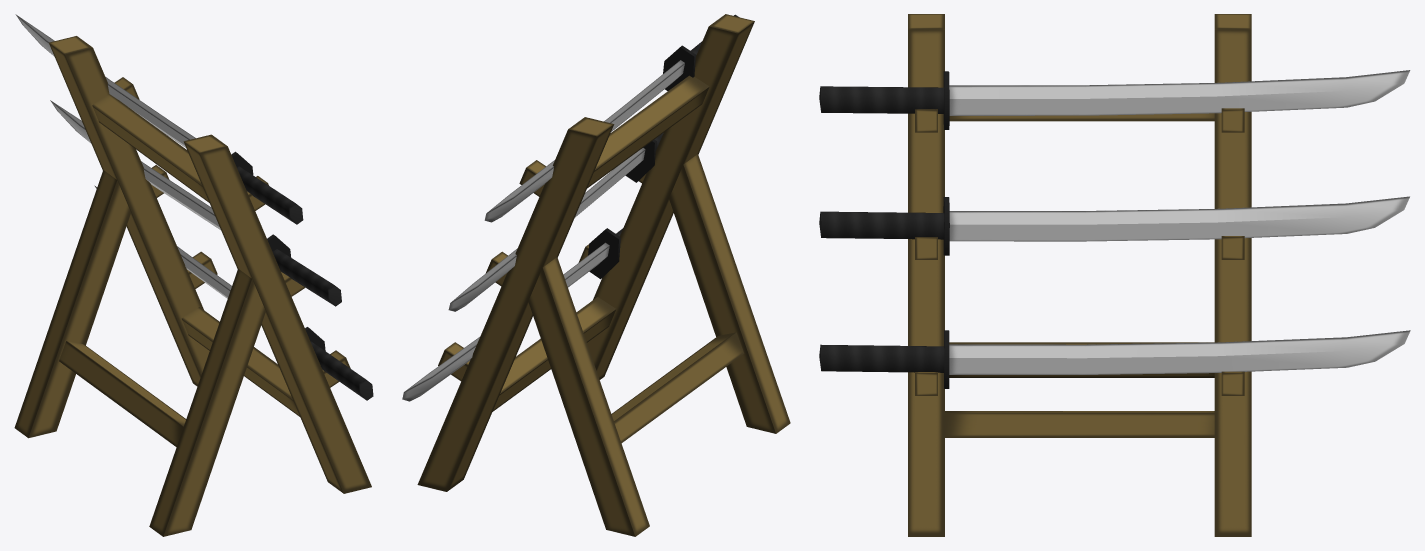
The model's file is katanas.fbx.
3 views of the same model, side by side, from view 1: azimuth 30°, elevation 25°; view 2: azimuth 150°, elevation 25°; view 3: azimuth 270°, elevation 25° (orthographic). The views are drawn at different scales.
Parts seen in each view (by area): view 1: rack, katana_2, katana_1, katana_3; view 2: rack, katana_1, katana_3, katana_2; view 3: rack, katana_3, katana_2, katana_1.
Boxes of the visible parts, <box> form: rack: <box>14,36,371,536</box>; katana_2: <box>50,100,341,306</box>; katana_1: <box>15,14,303,224</box>; katana_3: <box>94,185,373,400</box>; rack: <box>417,14,790,536</box>; katana_1: <box>484,14,738,222</box>; katana_3: <box>402,228,623,401</box>; katana_2: <box>448,133,663,311</box>; rack: <box>908,14,1251,536</box>; katana_3: <box>819,330,1410,388</box>; katana_2: <box>819,196,1409,255</box>; katana_1: <box>819,70,1410,129</box>.
Bounding box in the file's own units: 2.31 × 4 × 5.02.
